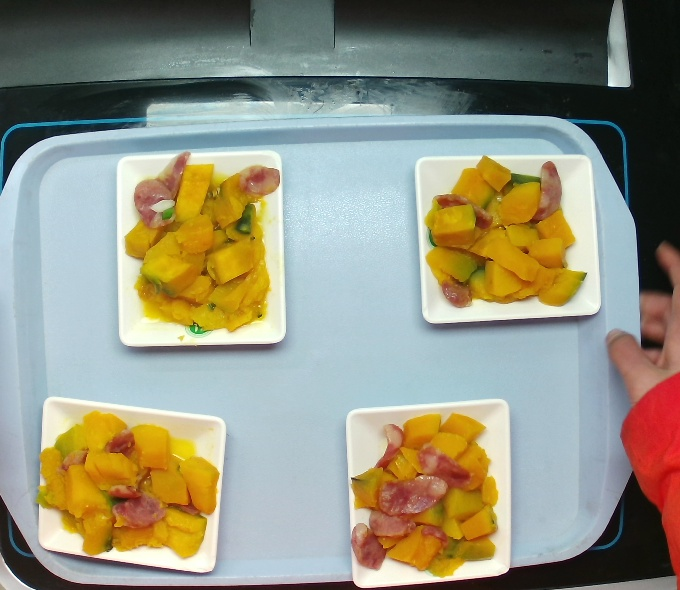wcq-NanGuaChaoXiangChang: (343, 402, 507, 583), (425, 148, 588, 321), (32, 417, 218, 566), (128, 162, 277, 336)
